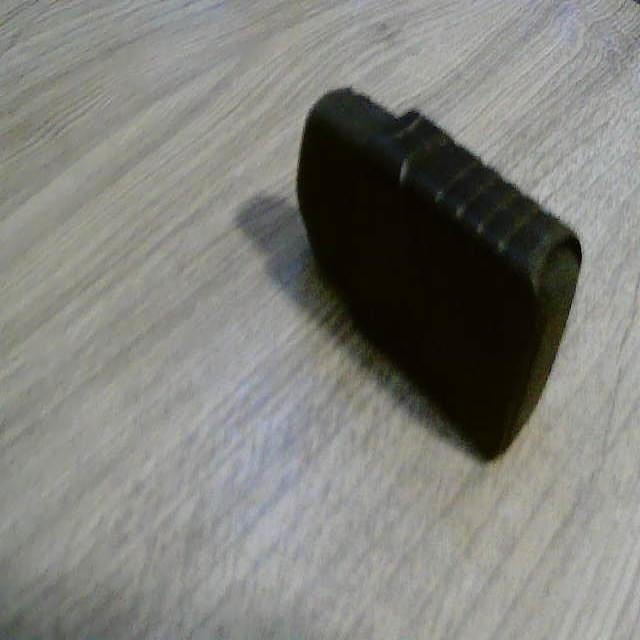borracha: (266, 70, 606, 482)
